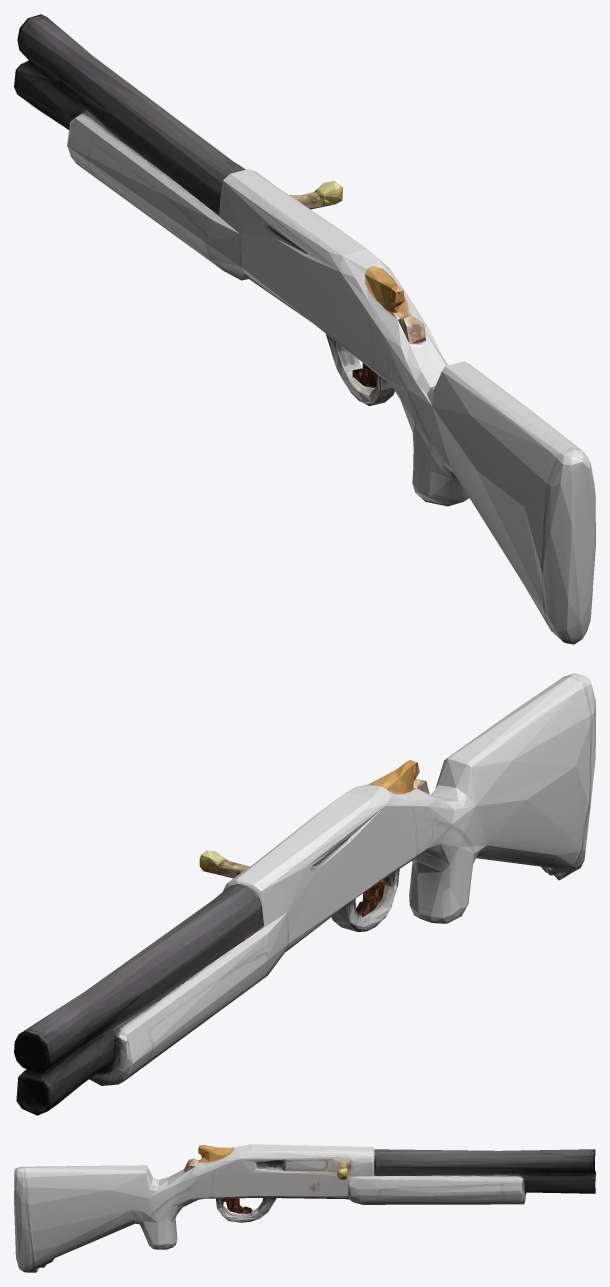
File: white_shotgun.glb
3 views of the same model, one above another, from view 1: azimuth 30°, elevation 25°; view 2: azimuth 150°, elevation 25°; view 3: azimuth 270°, elevation 25° (orthographic). The views are drawn at different scales.
Parts seen in each view (by area): view 1: geometry_0.002; view 2: geometry_0.002; view 3: geometry_0.002.
Part boxes in pixels (x1,y1,x2,y2): geometry_0.002: (14,14,595,644); geometry_0.002: (14,673,595,1115); geometry_0.002: (14,1144,595,1272).
Bounding box in the file's own units: 0.0865 × 0.1921 × 0.8074.
1 material, 1 textured.
